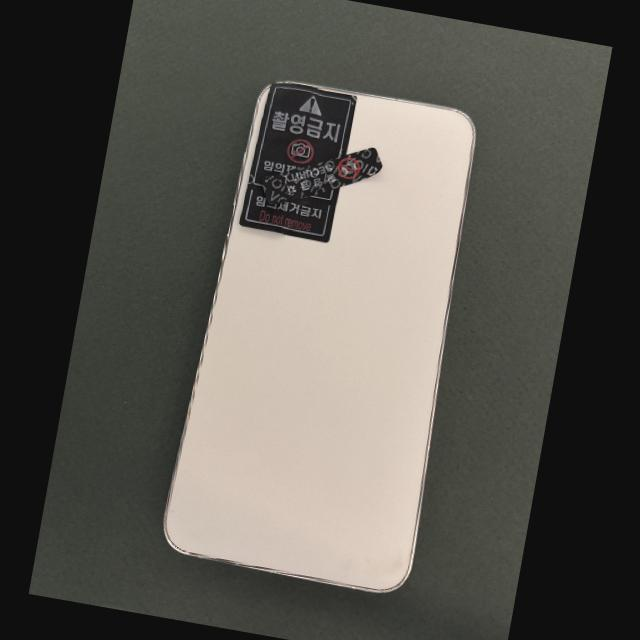phone: (164, 81, 474, 591)
sticker: (247, 82, 356, 190), (260, 147, 382, 205), (238, 188, 336, 242)
